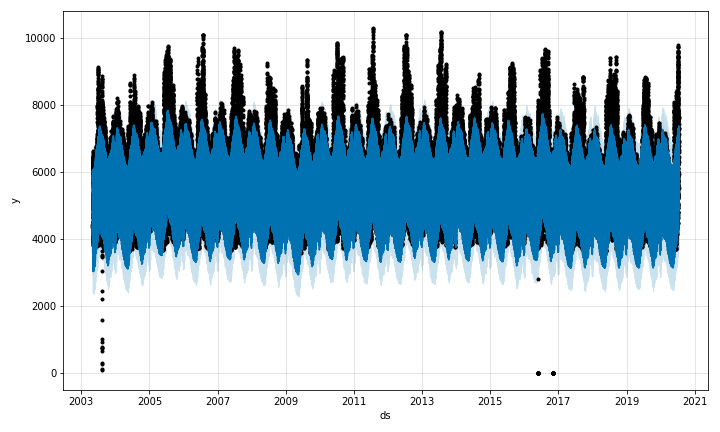

Layout of this report page (visuals, bound fields, positions):
{"tool":"tableau","page":{"name":"05","canvas":[1000,600],"ordinal":6},"visuals":[{"type":"worksheet","param":"/Users/lilia/Desktop/Export/Slide5.jpeg","box":[33,24.8,963,529.5]}]}

Visuals, with their boxes in screenshot pixels (x1, y1, x2, y2), scaled from the page's 1000x600 canvas onto the 720x432 screenshot:
worksheet: (24,18,717,399)
